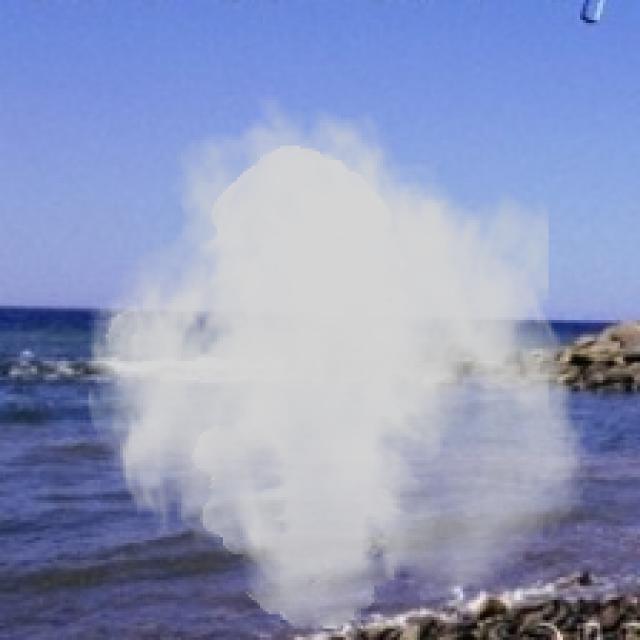Smoke: (80, 91, 594, 632)
